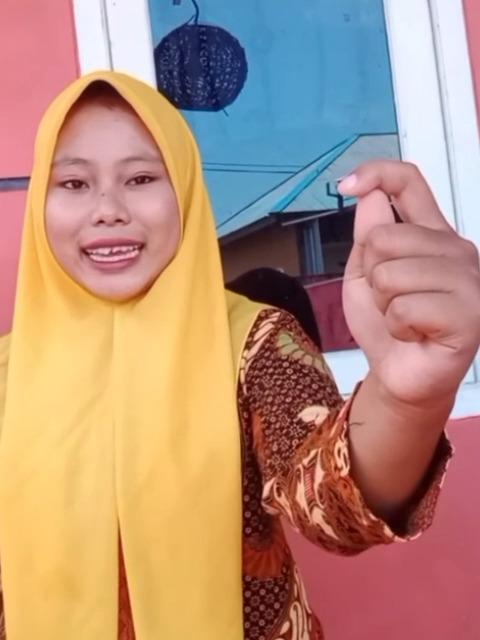T: (334, 156, 480, 404)
